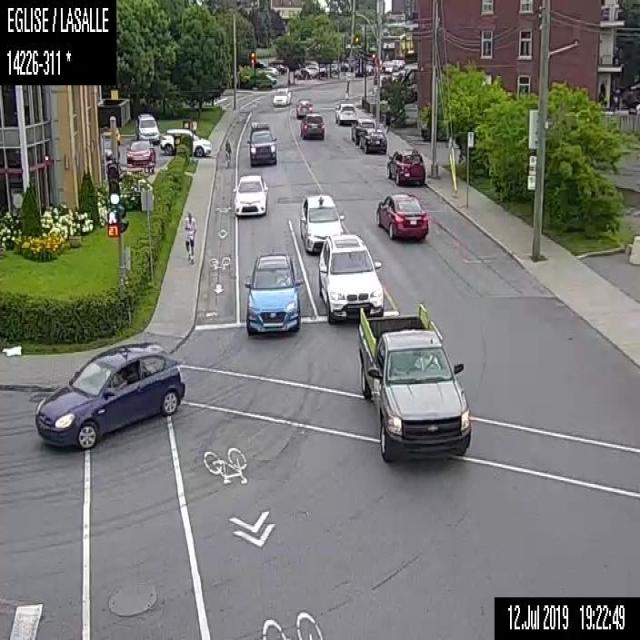cyclist: (224, 136, 231, 167)
pedestrian: (184, 211, 196, 261), (384, 104, 391, 132), (345, 77, 350, 99)
vehicle: (355, 303, 471, 461), (33, 339, 185, 449), (315, 232, 385, 320), (244, 251, 302, 332), (298, 192, 345, 252), (375, 192, 428, 239), (384, 144, 424, 184), (159, 127, 211, 157), (232, 172, 268, 215), (246, 123, 276, 164), (126, 138, 155, 168), (134, 112, 160, 145), (350, 117, 376, 145), (360, 130, 388, 154), (300, 113, 324, 139), (333, 101, 358, 125), (98, 138, 119, 162), (295, 99, 314, 118), (272, 88, 290, 105), (304, 63, 320, 77), (257, 65, 279, 75)
